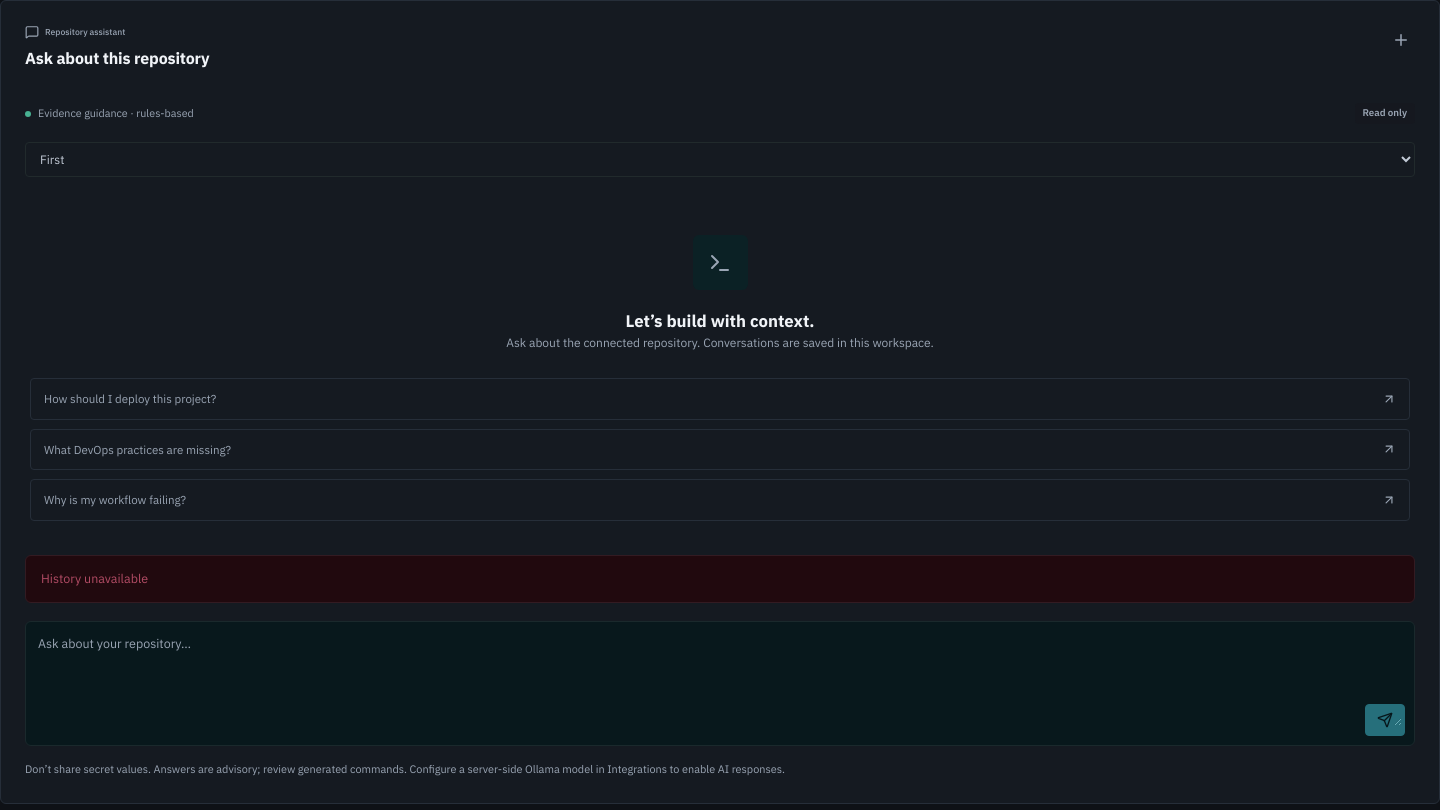
Scenario: stops loading and permits a message after history fails
expect the message reads "History unavailable": met, box [41, 570, 148, 586]
Type "Explain the build" into the text box.
click(720, 680); type("Explain the build")  # box [38, 634, 1402, 726]
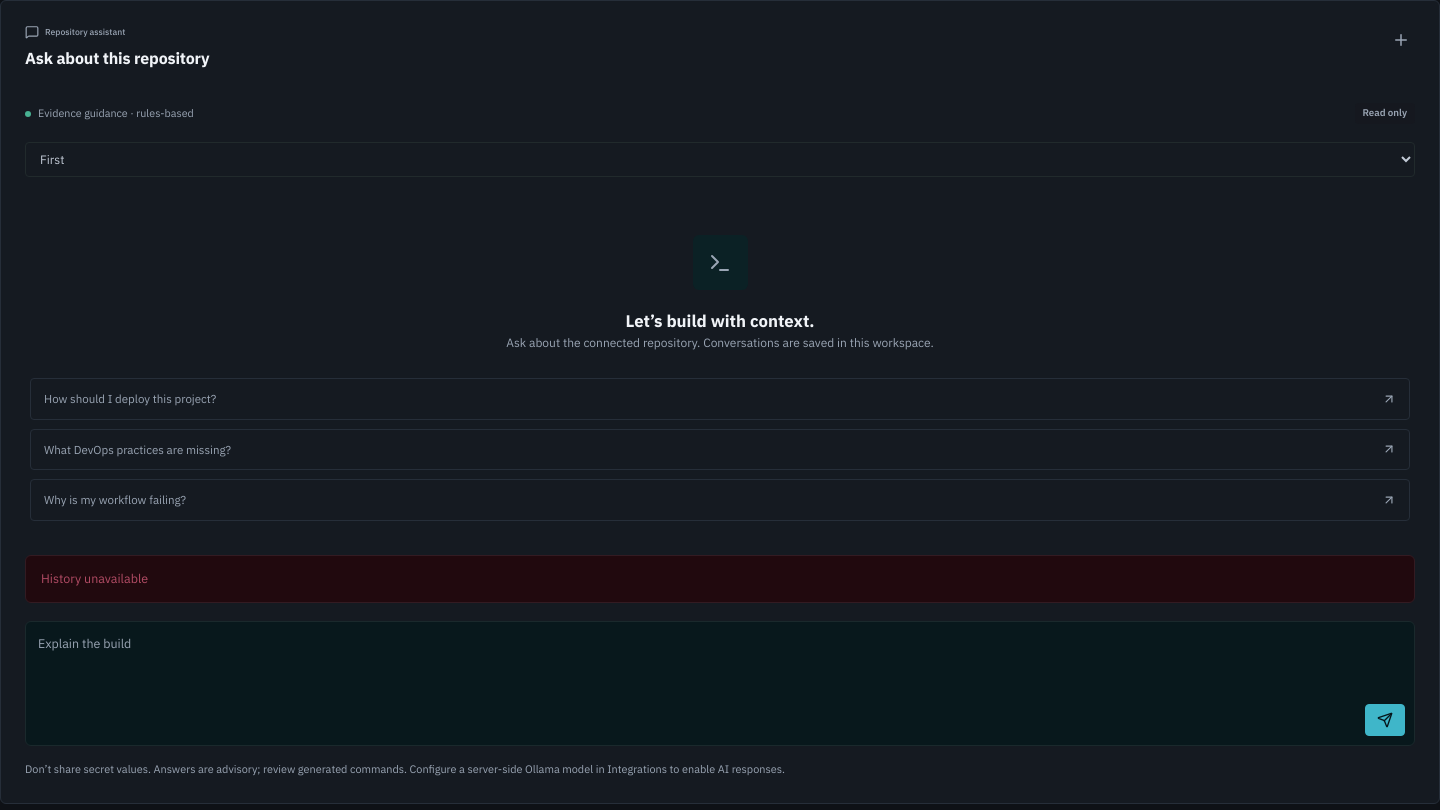
expect the button named "Send message" is enabled: met, box [1365, 704, 1405, 736]
